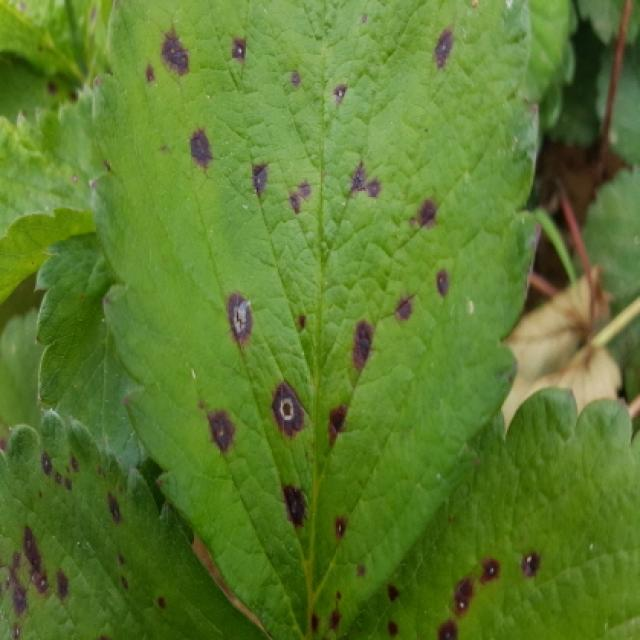Leaf Spot: (90, 0, 543, 638), (347, 386, 640, 638), (2, 407, 266, 638), (2, 0, 116, 82), (2, 52, 84, 122)
